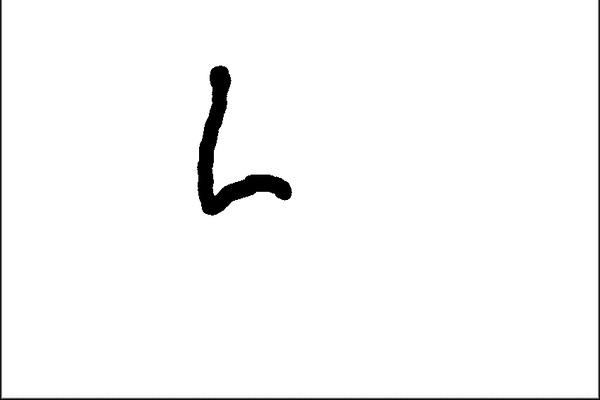L: (187, 60, 298, 221)
